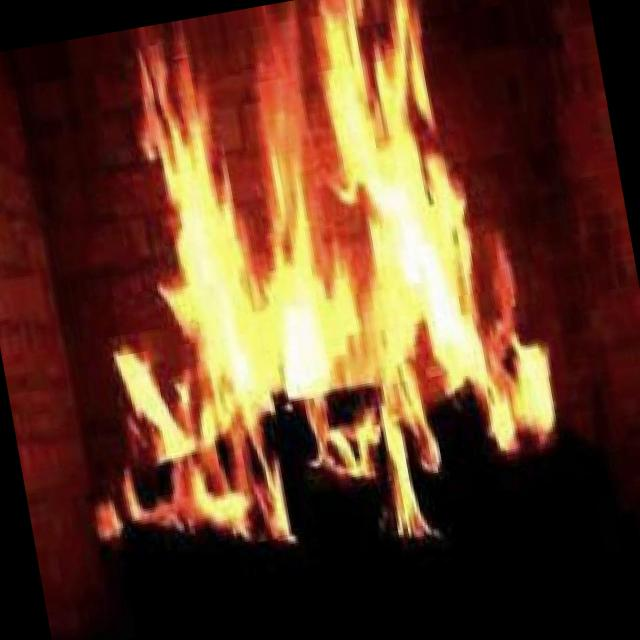fire: (114, 10, 550, 513)
